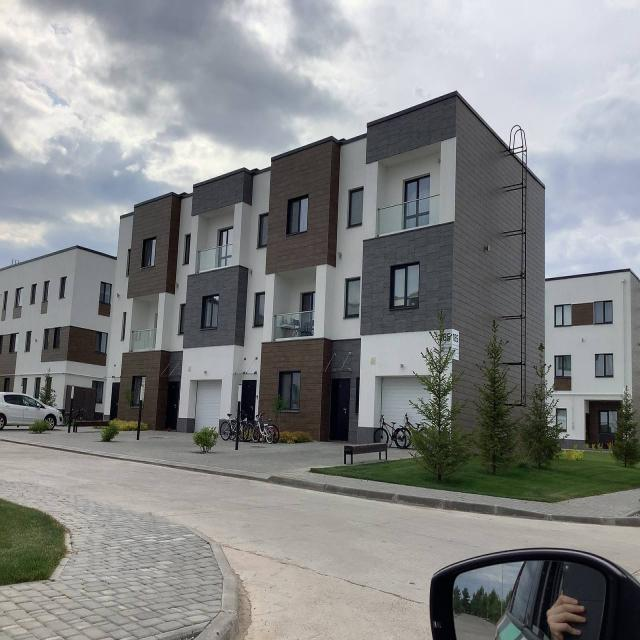Building: (102, 91, 546, 441)
